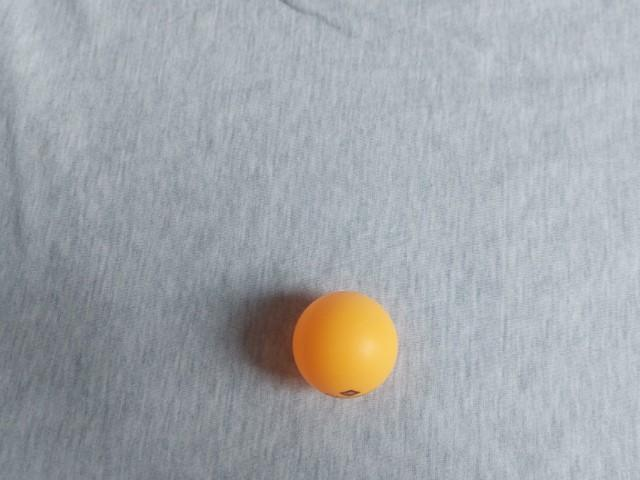oball: (232, 75, 360, 198)
